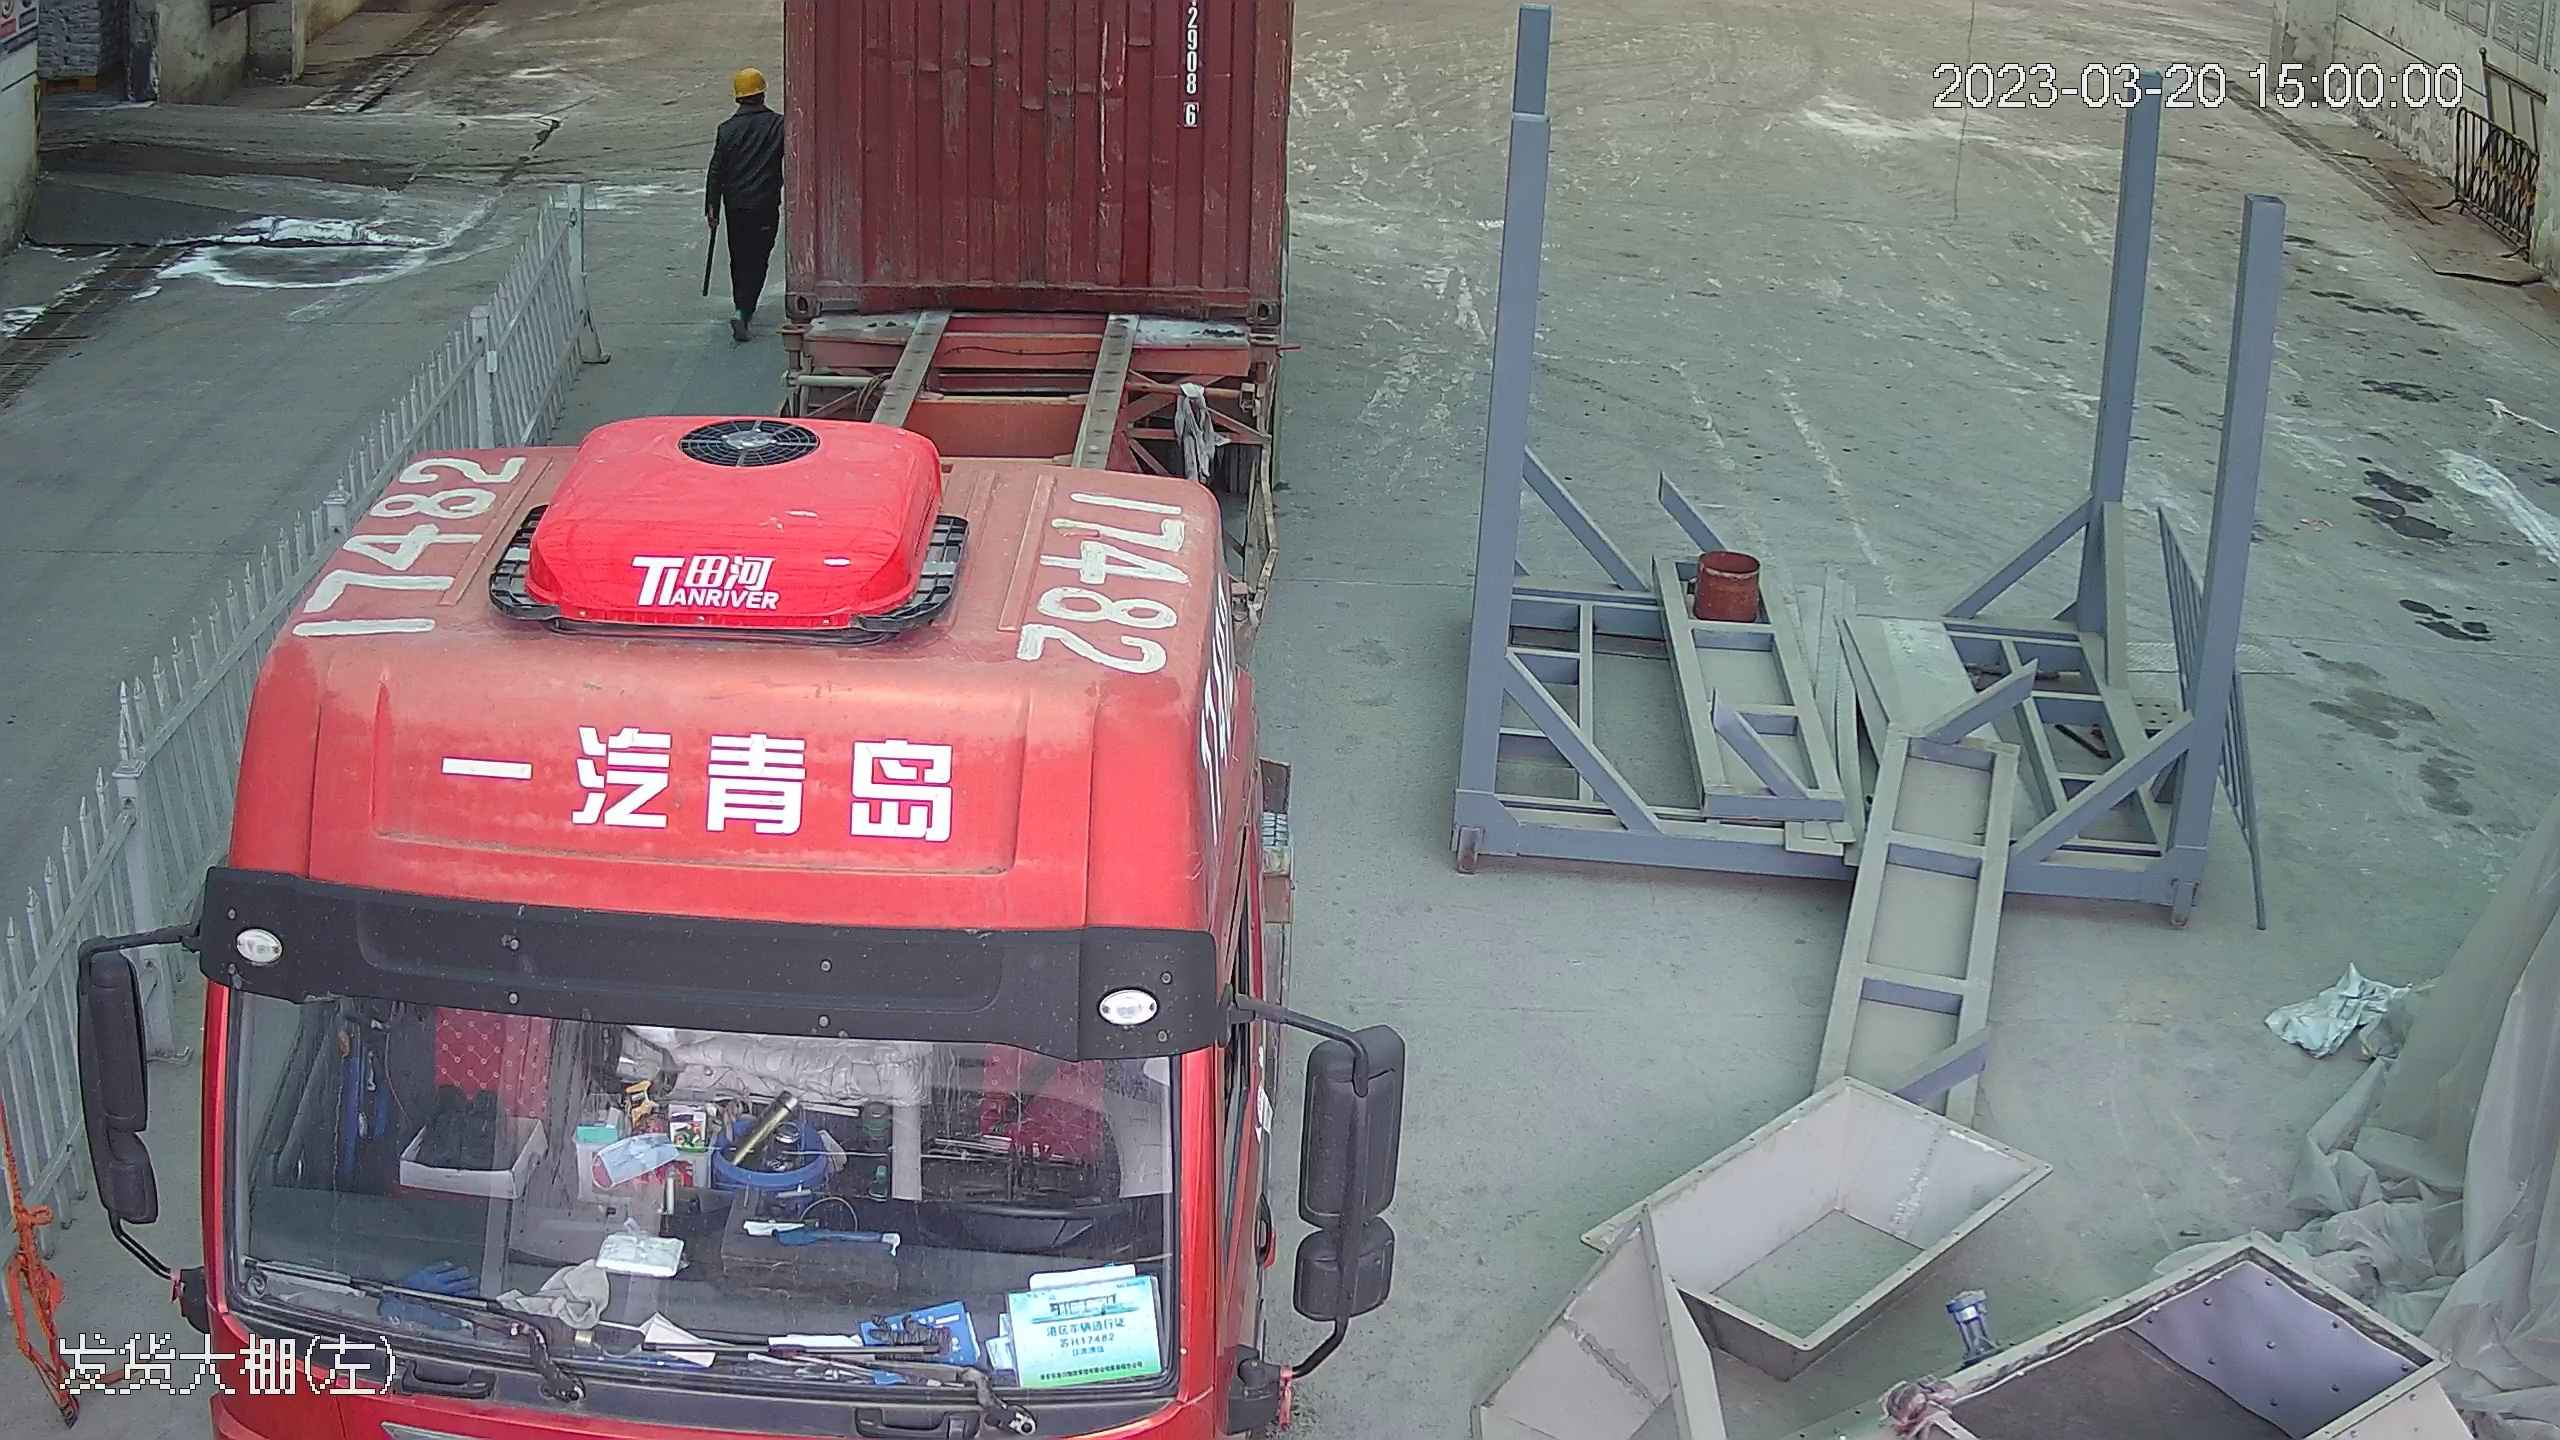head: (712, 62, 784, 147)
helmet: (729, 64, 769, 95)
people: (697, 57, 794, 347)
truck: (54, 0, 1306, 1440)
